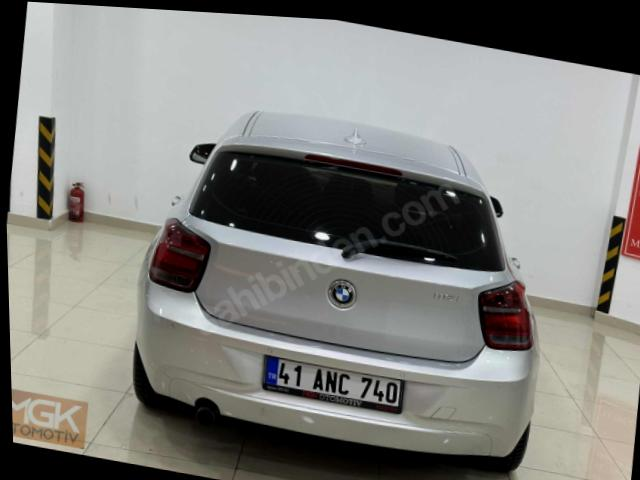plaka: (263, 356, 402, 413)
